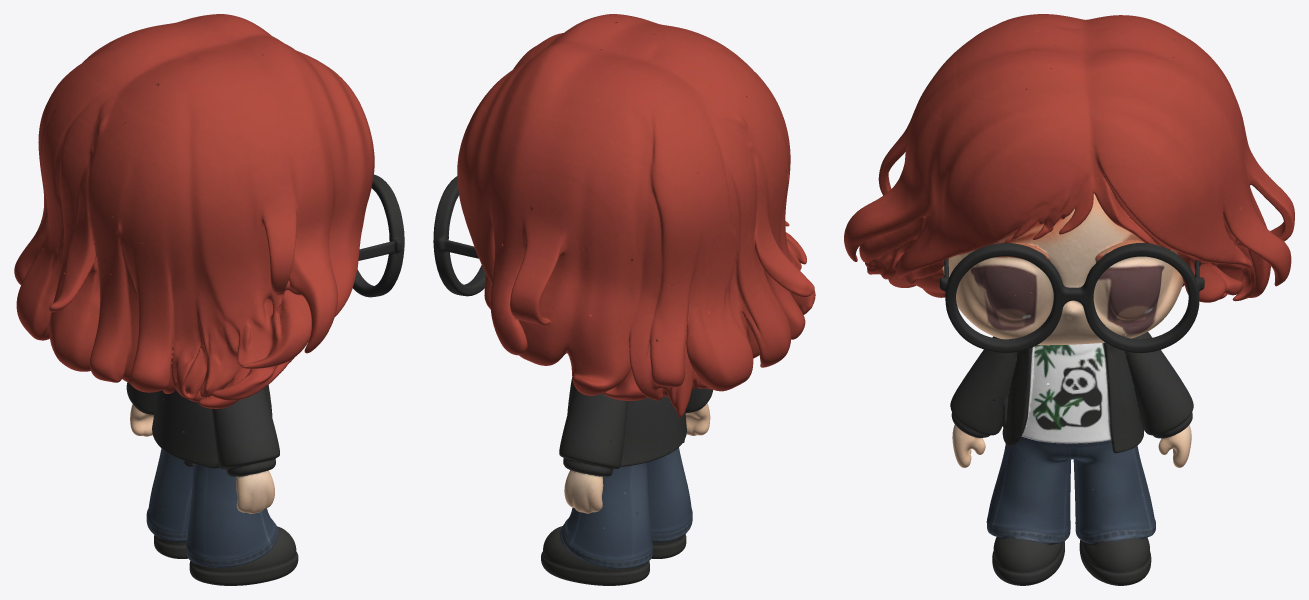
File: idle.glb
The picture shows the model from 3 angles, left to right: view 1: azimuth 30°, elevation 25°; view 2: azimuth 150°, elevation 25°; view 3: azimuth 270°, elevation 25°; orthographic projection. The views are drawn at different scales.
Parts seen in each view (by area): view 1: tripo_node_5771e47a-9ed1-49c8-b70e-f22bbc482fb6; view 2: tripo_node_5771e47a-9ed1-49c8-b70e-f22bbc482fb6; view 3: tripo_node_5771e47a-9ed1-49c8-b70e-f22bbc482fb6.
Boxes of the visible parts, x1,y1,x2,y2 form: tripo_node_5771e47a-9ed1-49c8-b70e-f22bbc482fb6: (14, 14, 404, 585); tripo_node_5771e47a-9ed1-49c8-b70e-f22bbc482fb6: (433, 14, 815, 585); tripo_node_5771e47a-9ed1-49c8-b70e-f22bbc482fb6: (844, 14, 1294, 585).
Bounding box in the file's own units: 0.6377 × 0.9999 × 0.7802.
Materials: 1 (1 with a texture image).
